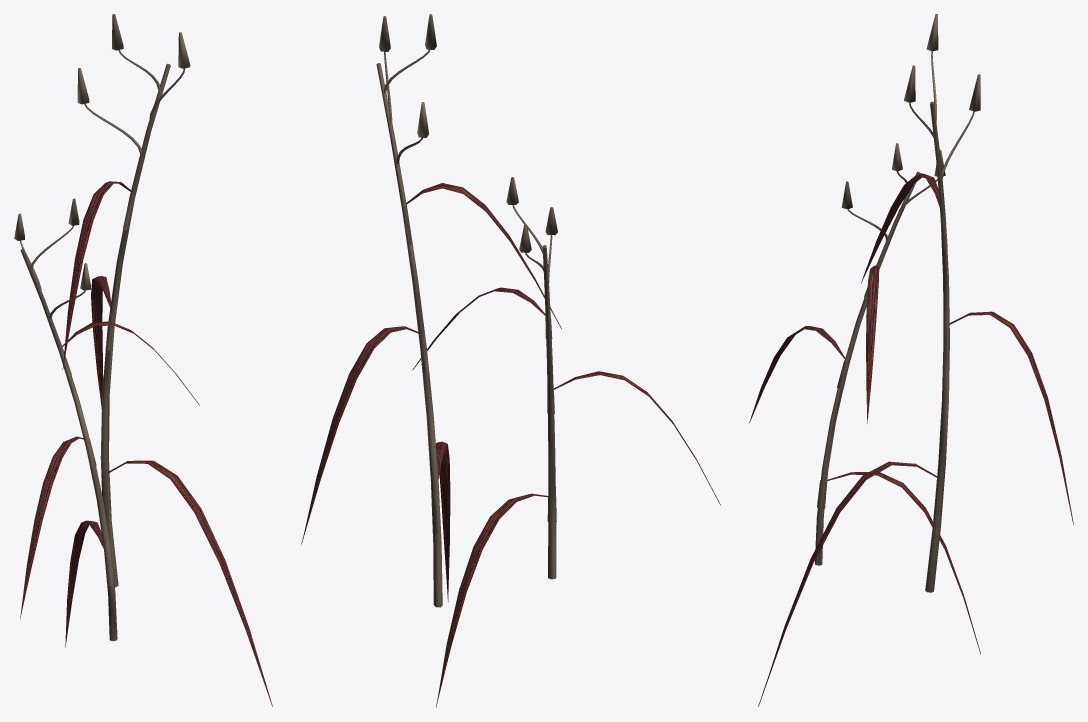
Rendered from dryshoots_03.glb.
3 views of the same model, side by side, from view 1: azimuth 30°, elevation 25°; view 2: azimuth 150°, elevation 25°; view 3: azimuth 270°, elevation 25° (orthographic). The views are drawn at different scales.
Visible parts, largest first — view 1: export; view 2: export; view 3: export.
Part boxes in pixels (left/top/right/bottom): export: left=14, top=14, right=272, bottom=706; export: left=301, top=14, right=720, bottom=707; export: left=749, top=14, right=1073, bottom=706.
Size of the model in its own units: 0.5413 by 1.3 by 0.5812.
Materials: 2 (2 with a texture image).
